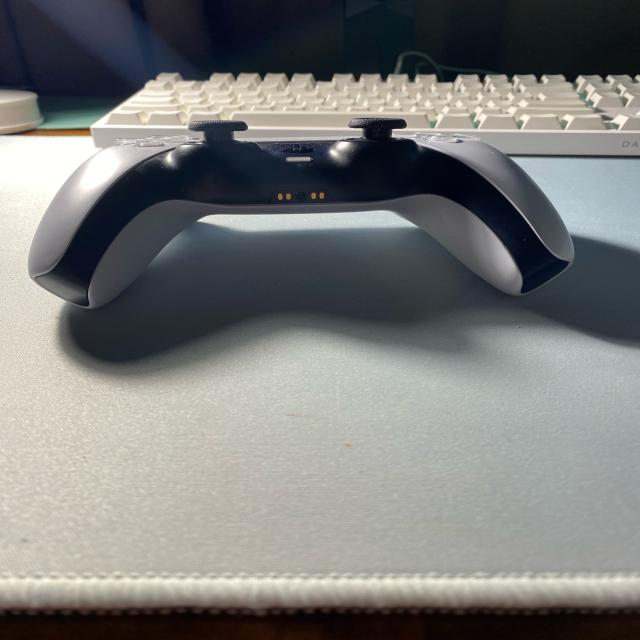dualsensePhoto: (28, 118, 573, 309), (37, 139, 568, 305), (270, 190, 332, 204), (188, 120, 248, 131), (348, 118, 407, 129), (282, 144, 313, 154), (428, 135, 460, 144), (135, 139, 163, 146), (287, 156, 312, 162)
